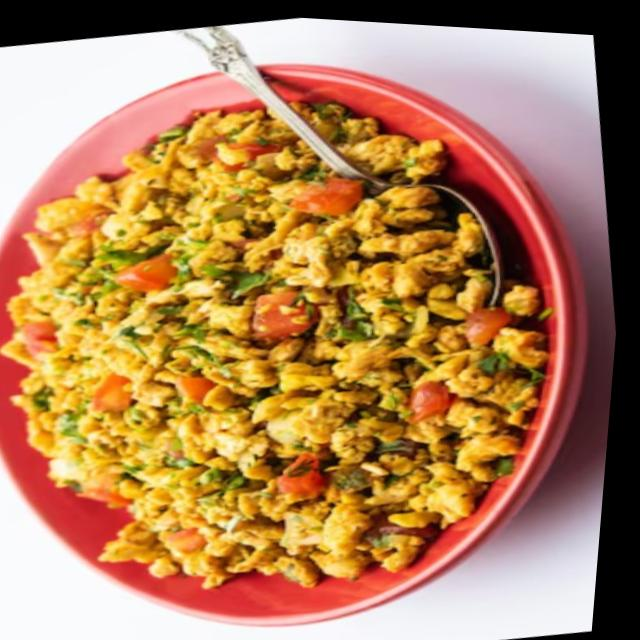EGG: (3, 110, 548, 579)
